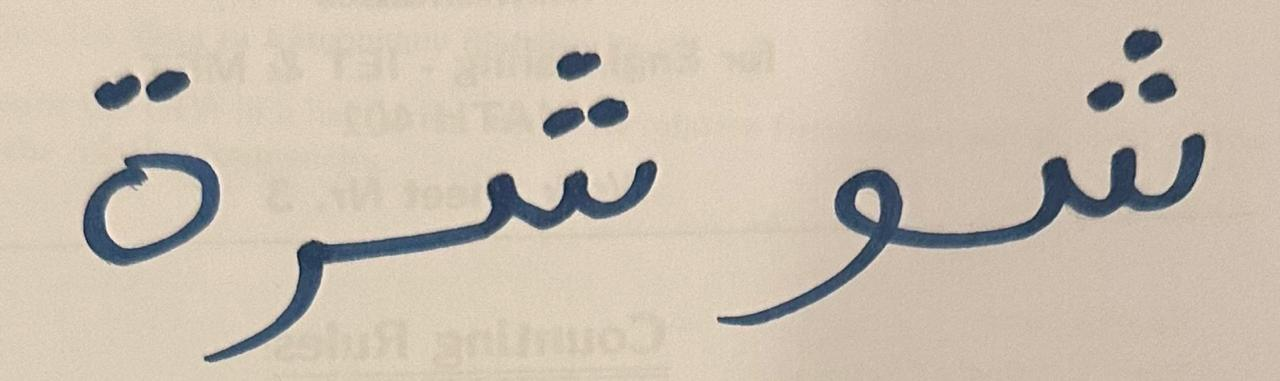sad: (224, 188, 385, 364)
tah: (955, 10, 1225, 292), (394, 43, 687, 294)
thal: (56, 53, 219, 284)
yeh: (691, 89, 951, 336)
